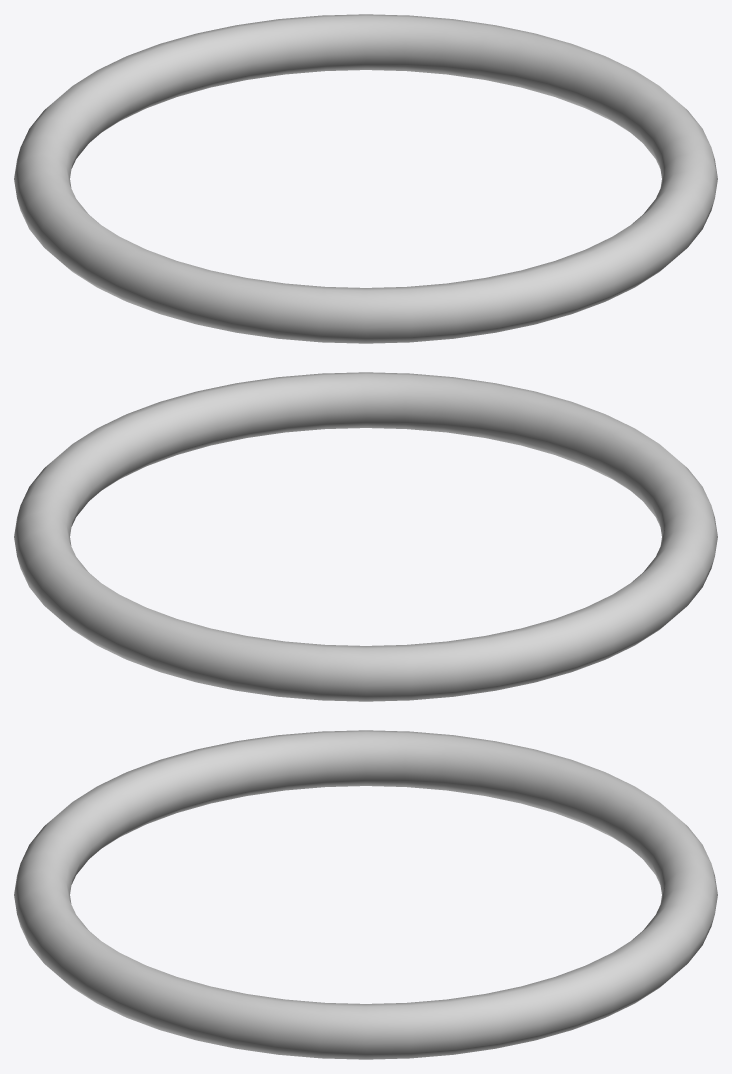
Rendered from ling_big.fbx.
3 renders of one model, top to bottom at view 1: azimuth 30°, elevation 25°; view 2: azimuth 150°, elevation 25°; view 3: azimuth 270°, elevation 25°, orthographic.
Parts seen in each view (by area): view 1: Torus; view 2: Torus; view 3: Torus.
Part boxes in pixels (box(x1,y1,x2,y2)): Torus: box(14, 14, 717, 343); Torus: box(14, 372, 717, 701); Torus: box(14, 730, 717, 1059).
Bounding box in the file's own units: 2.14 × 2.14 × 0.17.
Materials: 1 (1 with a texture image).
